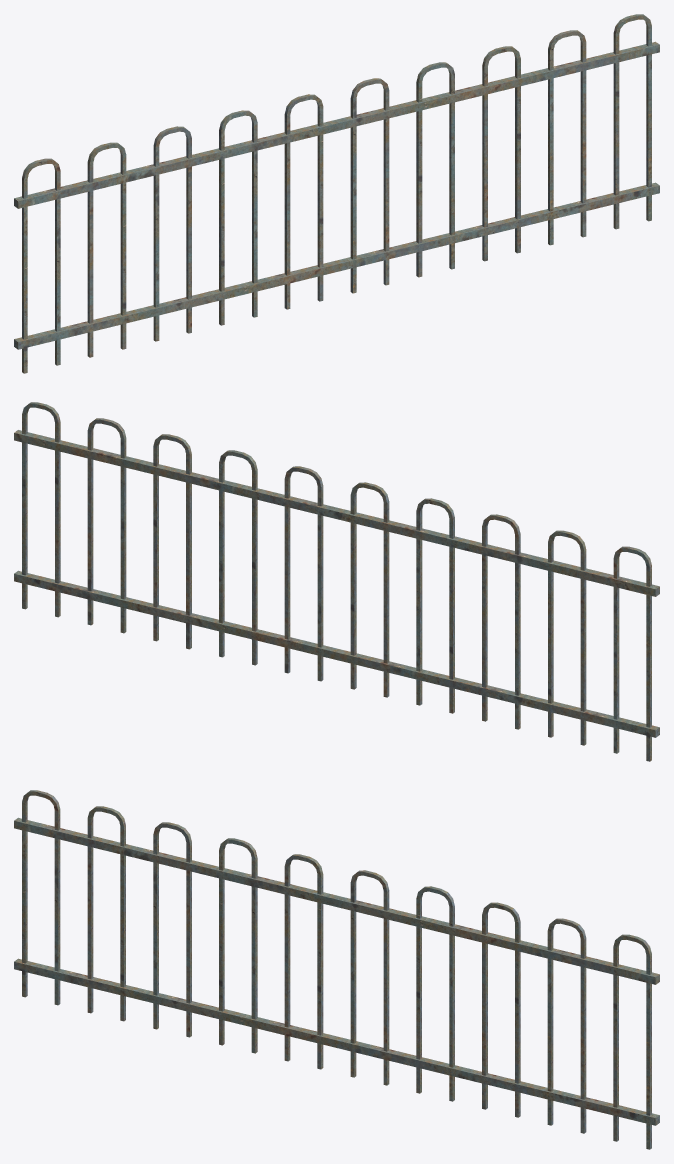
The model's file is fence11.FBX.
3 renders of one model, top to bottom at view 1: azimuth 30°, elevation 25°; view 2: azimuth 150°, elevation 25°; view 3: azimuth 330°, elevation 25°, orthographic.
Parts seen in each view (by area): view 1: metal_fence_large_loop_top; view 2: metal_fence_large_loop_top; view 3: metal_fence_large_loop_top.
Part boxes in pixels (box(x1,y1,x2,y2)): metal_fence_large_loop_top: box(14, 14, 659, 373); metal_fence_large_loop_top: box(14, 402, 659, 761); metal_fence_large_loop_top: box(14, 790, 659, 1149).
Size of the model in its own units: 559 by 173 by 6.31.
